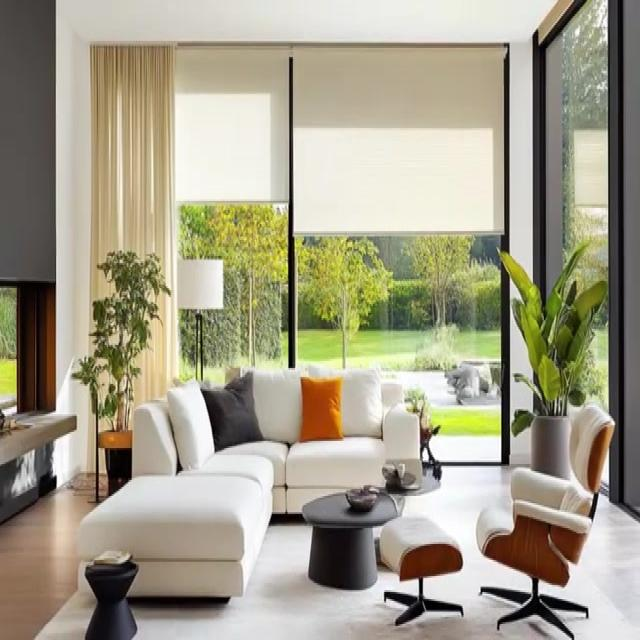obstacle: (475, 402, 615, 638)
